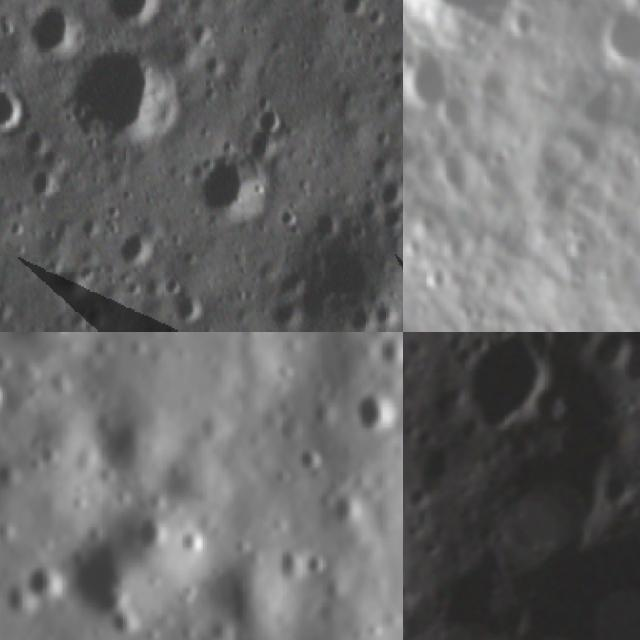crater: (52, 526, 153, 628), (78, 55, 182, 147), (472, 340, 551, 434), (192, 156, 272, 218), (403, 49, 463, 120), (32, 5, 91, 63), (348, 377, 403, 439), (409, 0, 518, 29), (17, 555, 73, 611), (596, 6, 640, 66), (326, 483, 376, 534), (131, 507, 175, 556), (109, 0, 161, 30), (171, 295, 213, 332), (593, 332, 633, 369), (372, 332, 403, 377), (122, 227, 155, 269), (299, 544, 335, 582), (0, 92, 32, 132), (176, 522, 210, 558), (294, 438, 328, 474), (403, 124, 424, 180), (338, 0, 380, 27), (259, 110, 293, 140), (373, 182, 403, 214), (0, 368, 14, 423), (28, 178, 58, 199), (374, 305, 396, 332), (281, 204, 301, 232), (13, 219, 30, 241), (633, 344, 640, 384)
